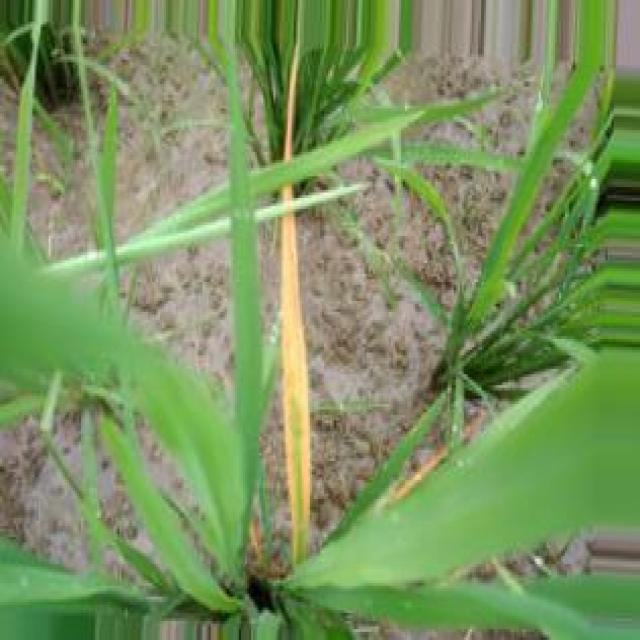Rice Tungro: (280, 214, 310, 563), (284, 40, 298, 160)
